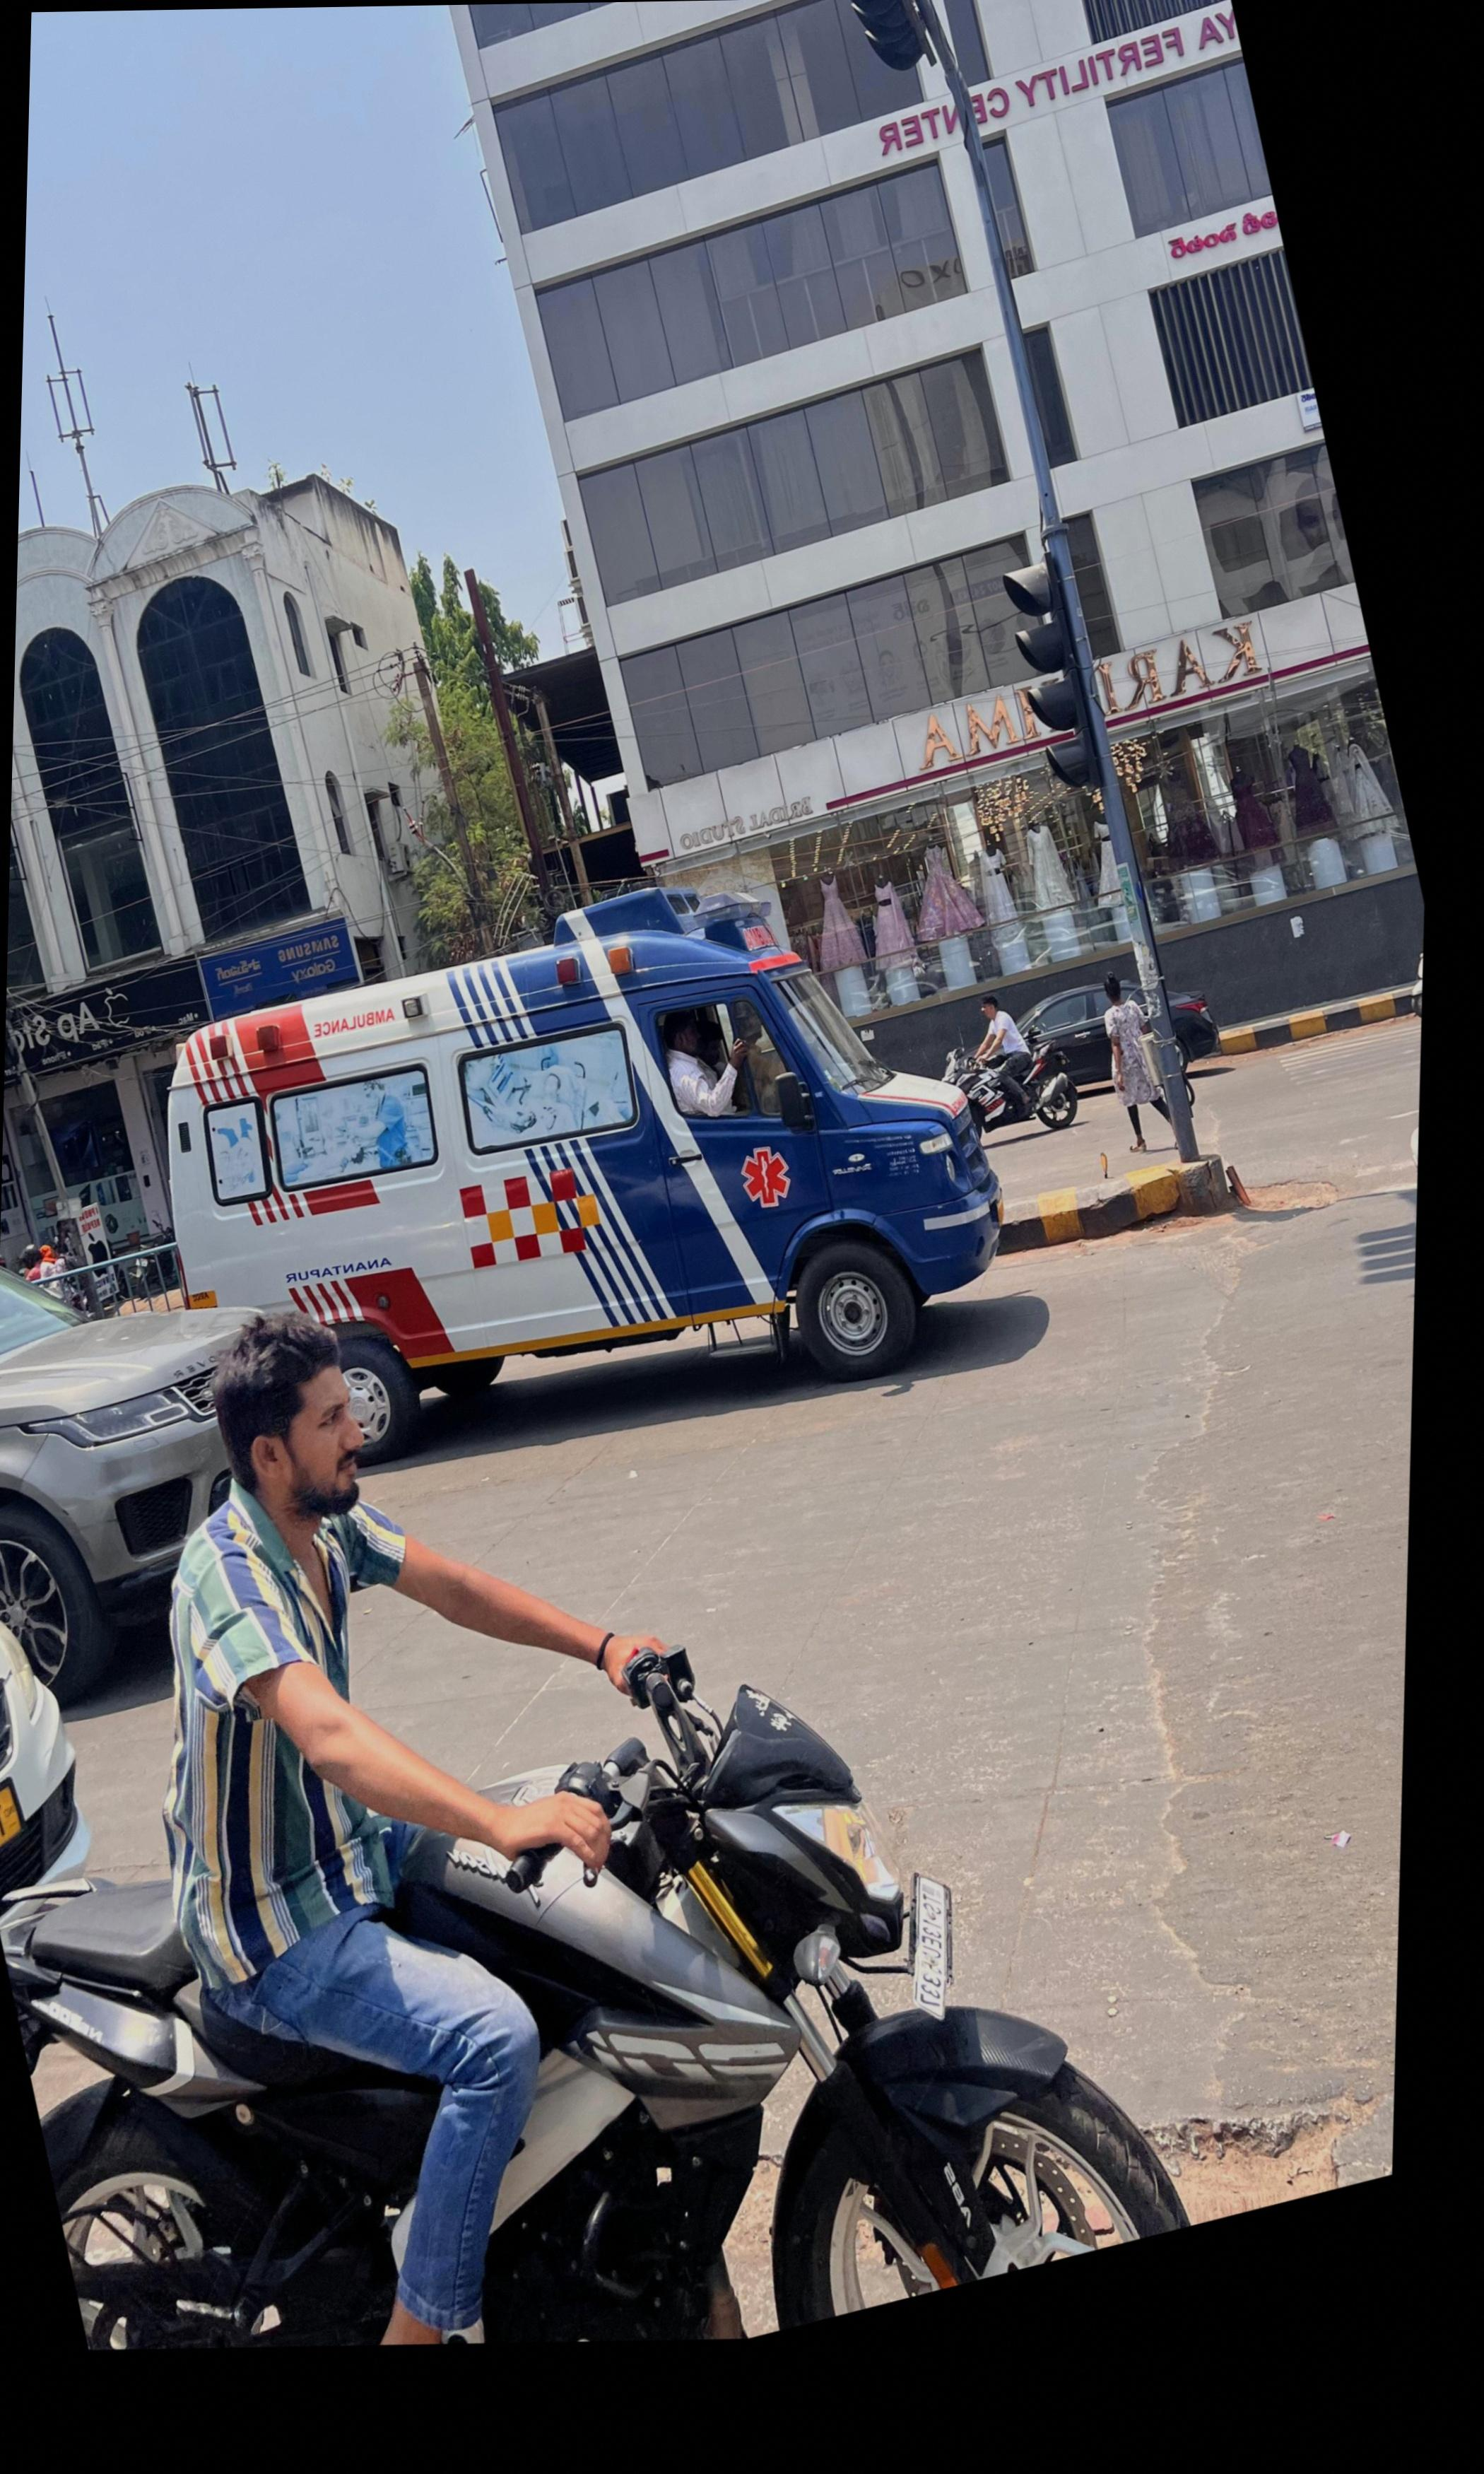ambulance: (168, 930, 1000, 1407)
